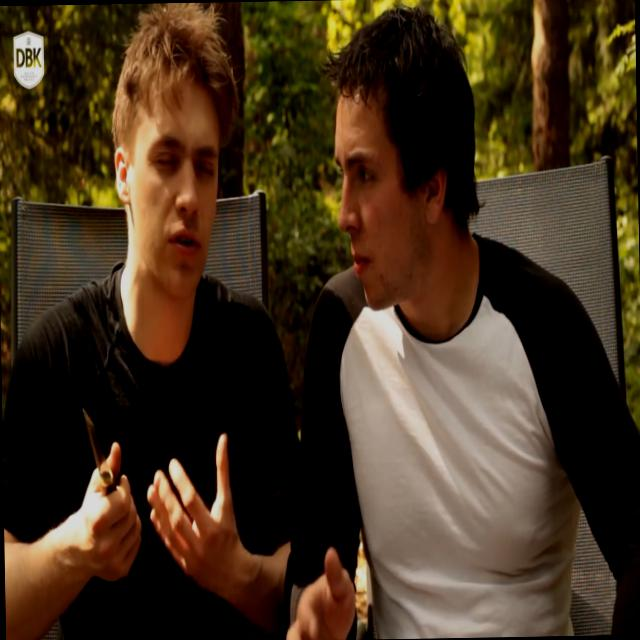knife: (68, 388, 145, 558)
